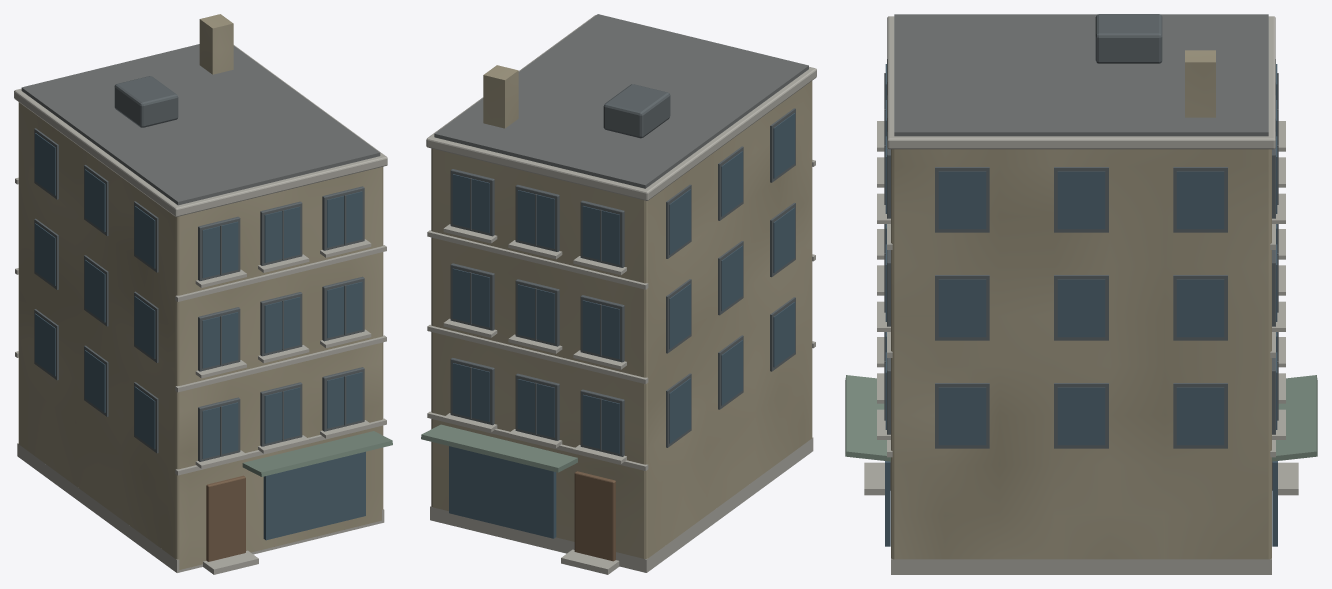
The model's file is building-high-5.glb.
3 renders of one model, left to right at view 1: azimuth 30°, elevation 25°; view 2: azimuth 150°, elevation 25°; view 3: azimuth 270°, elevation 25°, orthographic. The views are drawn at different scales.
Visible parts, largest first — view 1: building-5; view 2: building-5; view 3: building-5.
Part boxes in pixels (x1,y1,x2,y2): building-5: (14, 14, 392, 574); building-5: (421, 14, 816, 574); building-5: (845, 14, 1317, 574).
Size of the model in its own units: 6.15 by 11.5 by 9.91.
Materials: 7 (1 with a texture image).
